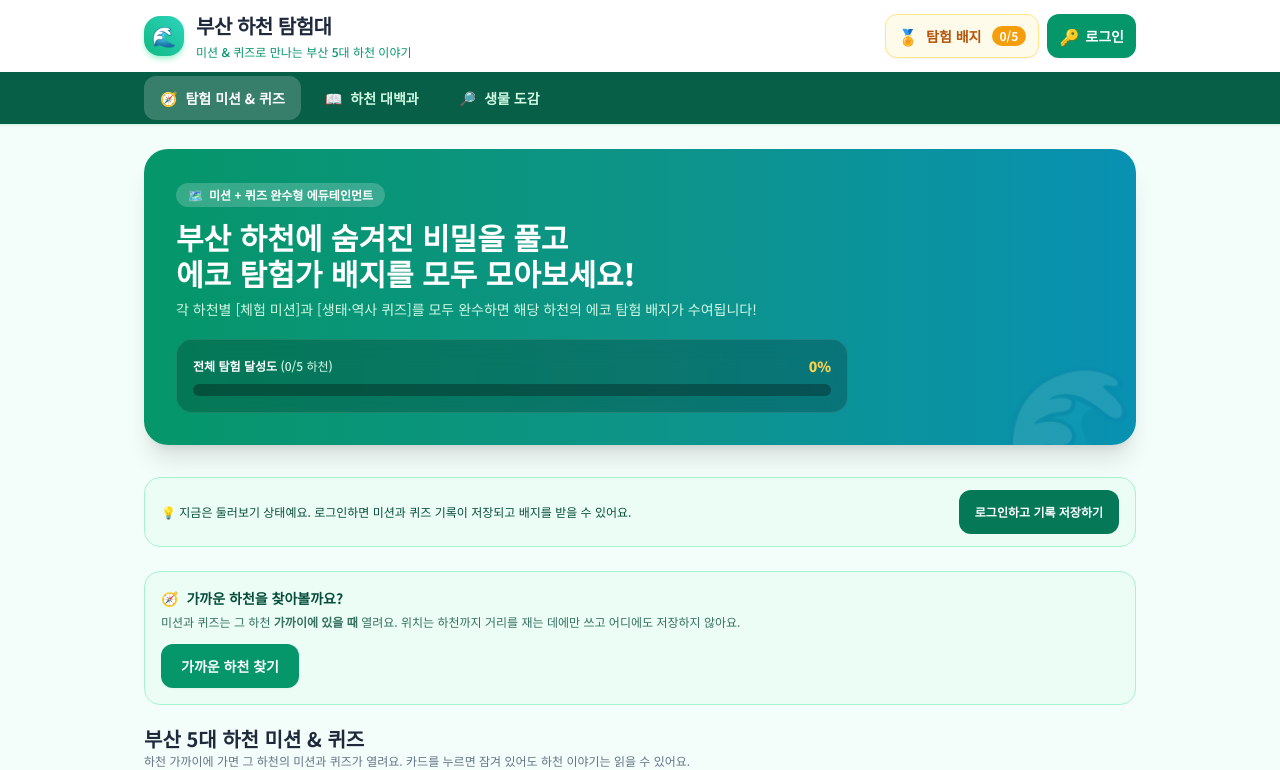
Test case: 위치 요청 — watching › 열린 하천 수와 가장 가까운 하천을 배너에 요약한다
The width and height of the screenshot is (1280, 770).
Click the button "가까운 하천 찾기". click: {"x": 230, "y": 666}
box: [161,644,299,688]
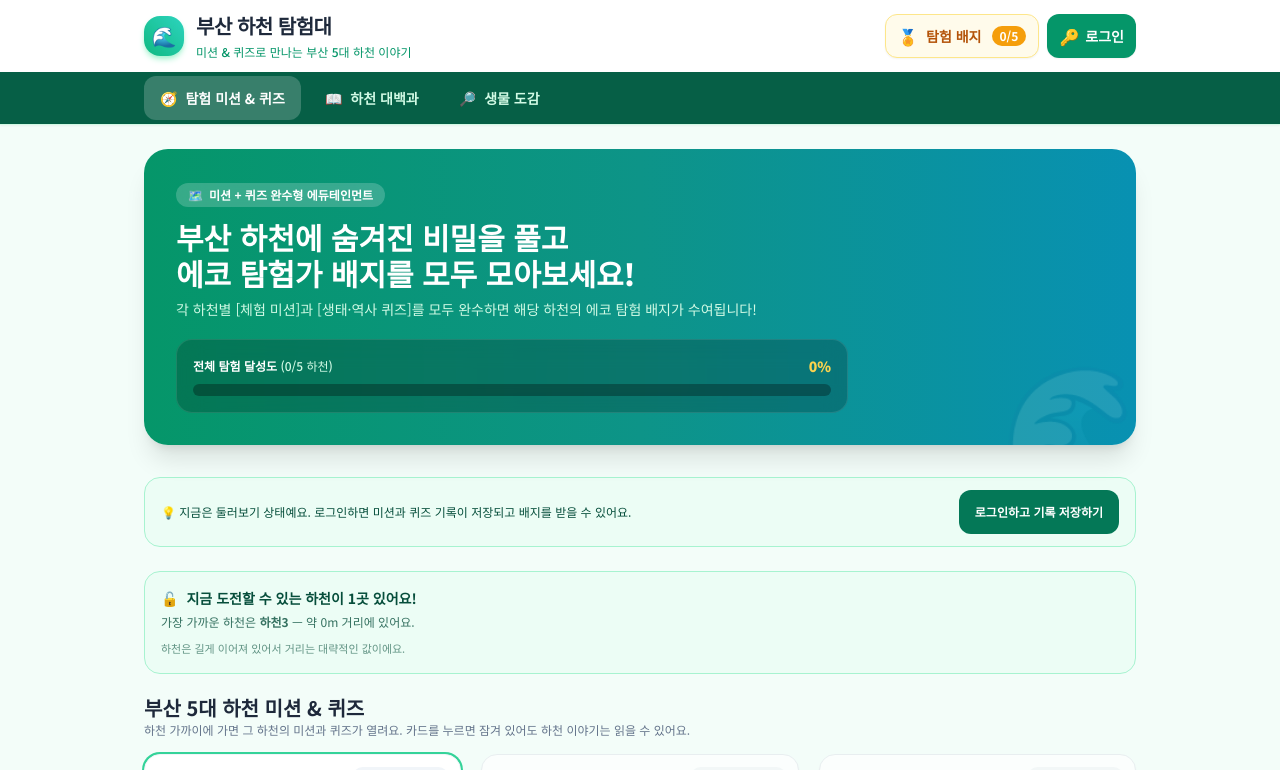
expect the text "하천3" is shown: met, box [259,613,289,630]
expect the text "도전할 수 있는 하천이 1곳" is shown: met, box [186,588,417,608]
expect the text "가장 가까운 하천은" is shown: met, box [161,613,259,630]
